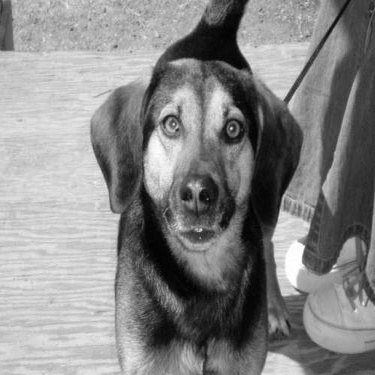dog: (90, 53, 302, 373)
